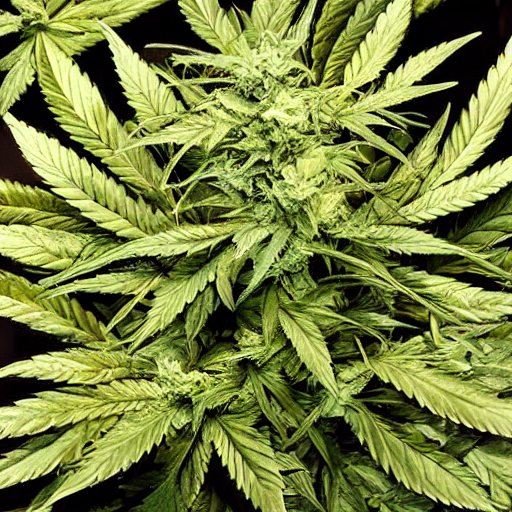Marijuana Joint: (85, 1, 423, 469)
